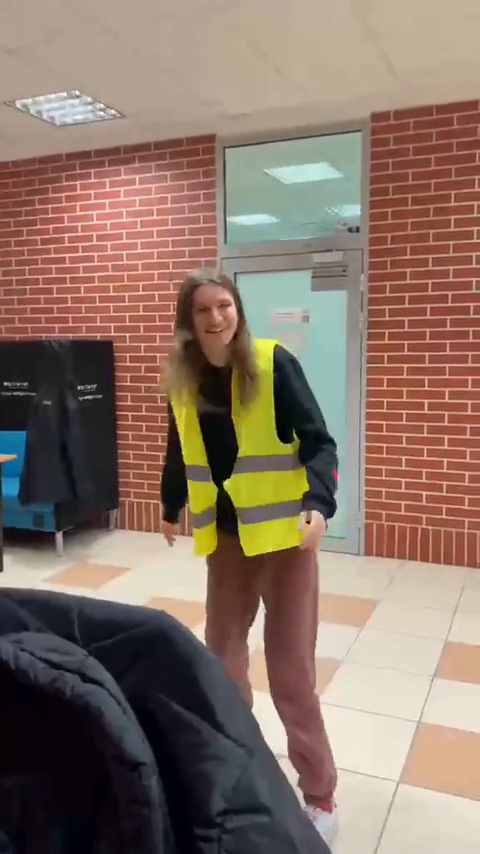vest: (151, 280, 347, 845)
